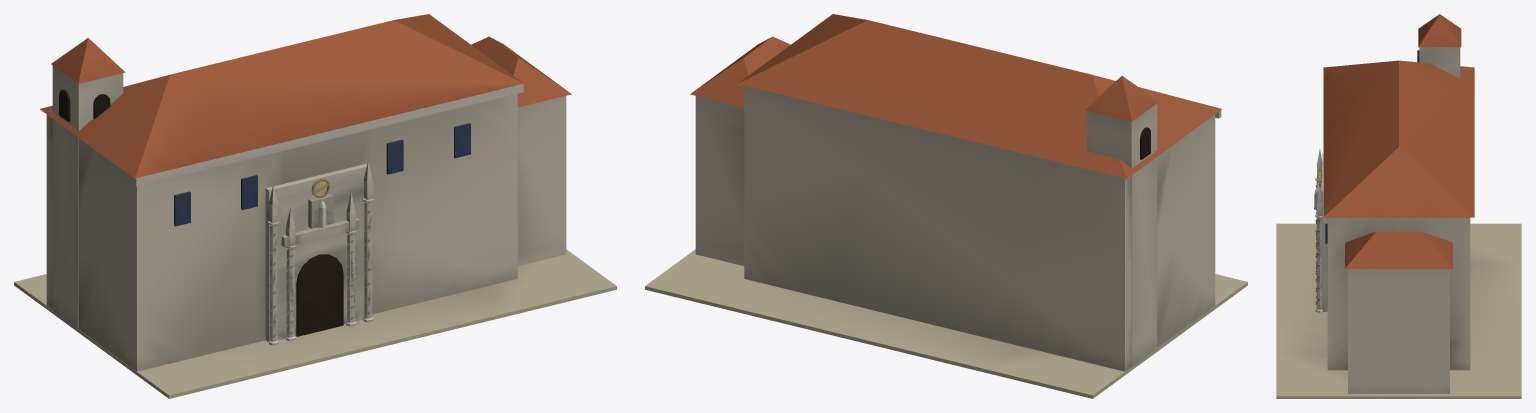
Rendered from conceicao-velha.glb.
The picture shows the model from 3 angles, left to right: view 1: azimuth 30°, elevation 25°; view 2: azimuth 150°, elevation 25°; view 3: azimuth 270°, elevation 25°; orthographic projection. The views are drawn at different scales.
Visible parts, largest first — view 1: p1_church, p2_portal, p0_ground; view 2: p1_church, p0_ground, p2_portal; view 3: p1_church, p0_ground, p2_portal.
Boxes of the visible parts, left/top/right/bottom form: p1_church: left=40, top=14, right=571, bottom=371; p2_portal: left=51, top=38, right=373, bottom=345; p0_ground: left=14, top=249, right=616, bottom=398; p1_church: left=690, top=14, right=1221, bottom=371; p0_ground: left=645, top=249, right=1247, bottom=398; p2_portal: left=1085, top=76, right=1158, bottom=366; p1_church: left=1323, top=60, right=1474, bottom=393; p0_ground: left=1276, top=223, right=1521, bottom=398; p2_portal: left=1314, top=14, right=1461, bottom=312.
Size of the model in its own units: 40.38 by 23.9 by 24.
